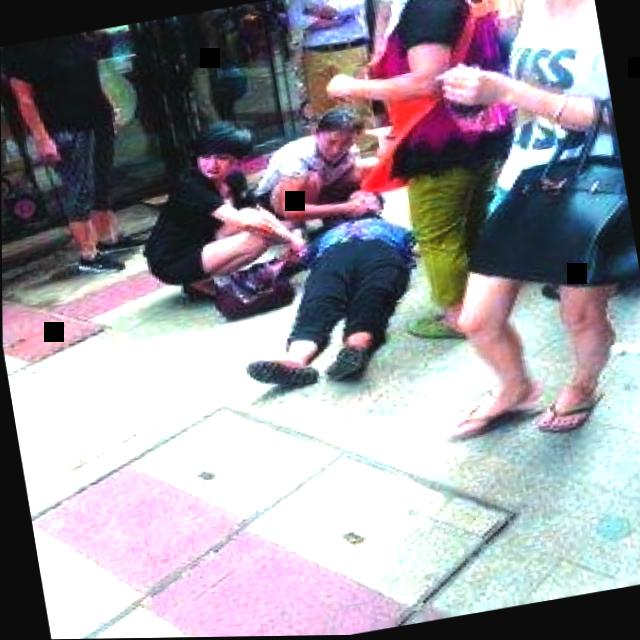Fall-Detected: (203, 176, 439, 403)
